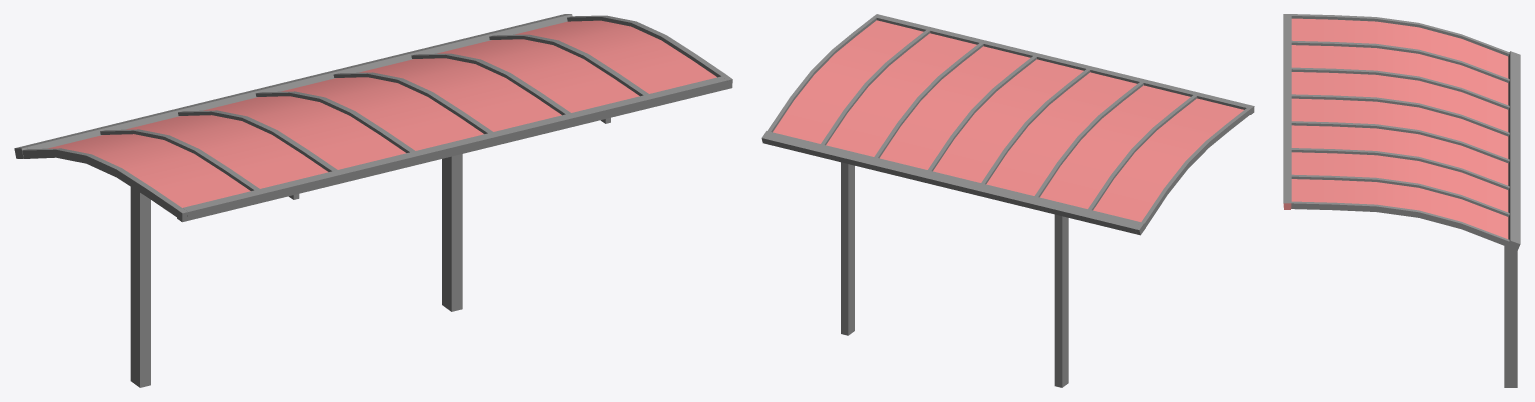
The model's file is Carport00.FBX.
3 renders of one model, left to right at view 1: azimuth 30°, elevation 25°; view 2: azimuth 150°, elevation 25°; view 3: azimuth 270°, elevation 25°, orthographic. The views are drawn at different scales.
Visible parts, largest first — view 1: Carport00; view 2: Carport00; view 3: Carport00.
Boxes of the visible parts, x1,y1,x2,y2 form: Carport00: [14, 14, 732, 387]; Carport00: [761, 14, 1254, 387]; Carport00: [1283, 14, 1520, 387].
Size of the model in its own units: 199 by 109 by 105.
